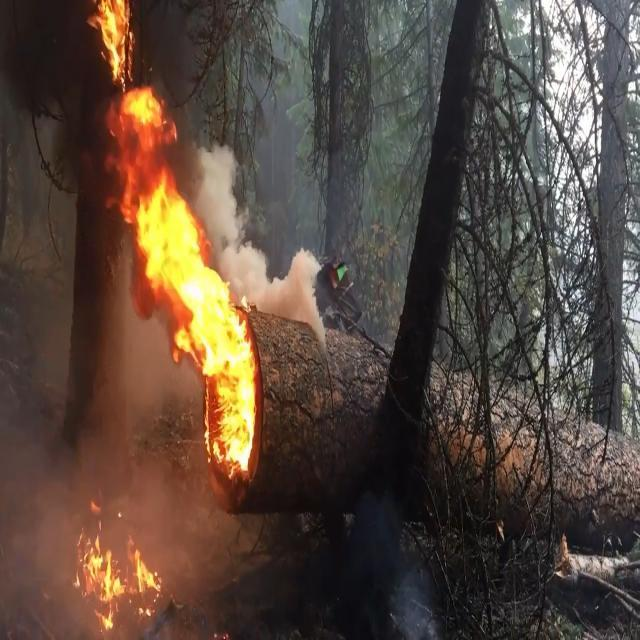Fire: (83, 0, 260, 485)
